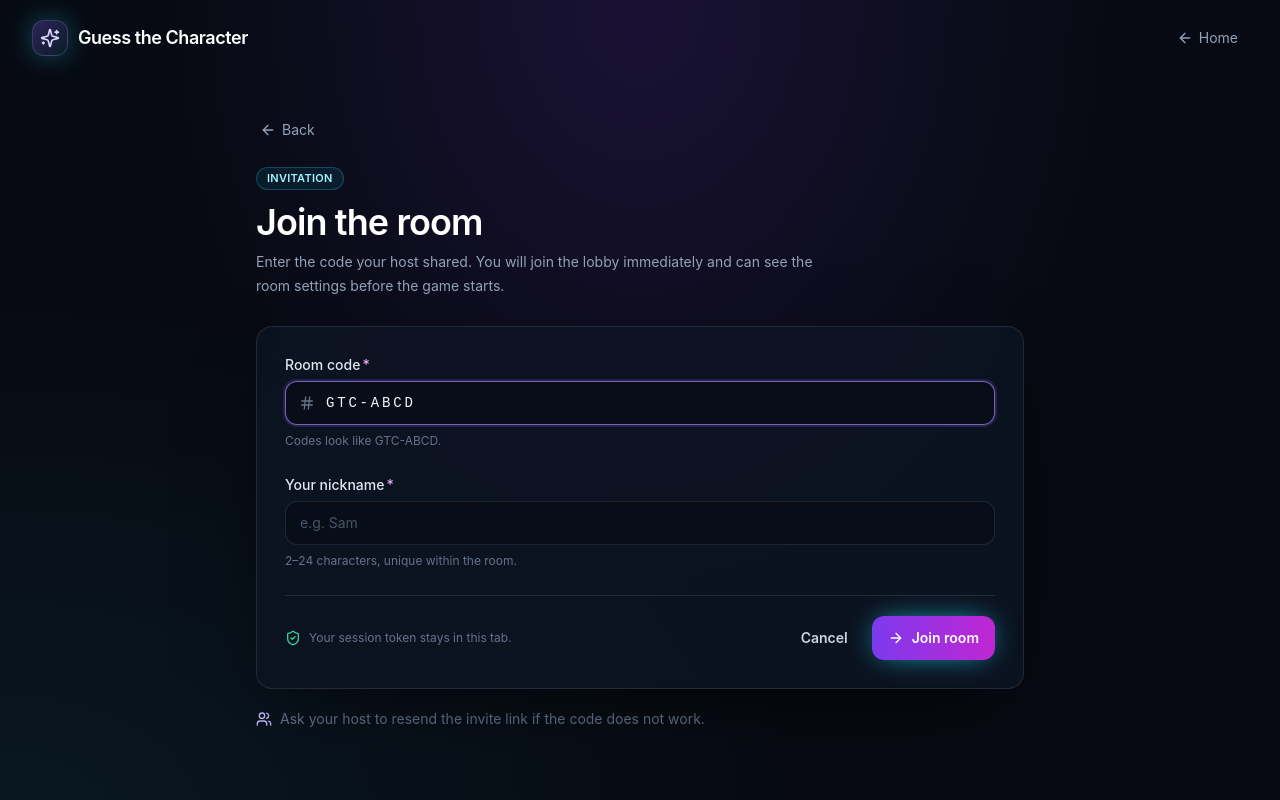
Test: JoinRoomPage › surfaces the server's refusal instead of a raw internal message
In the field labelled "Your nickname*": (640,522) [285,500,995,544], type "Sam"
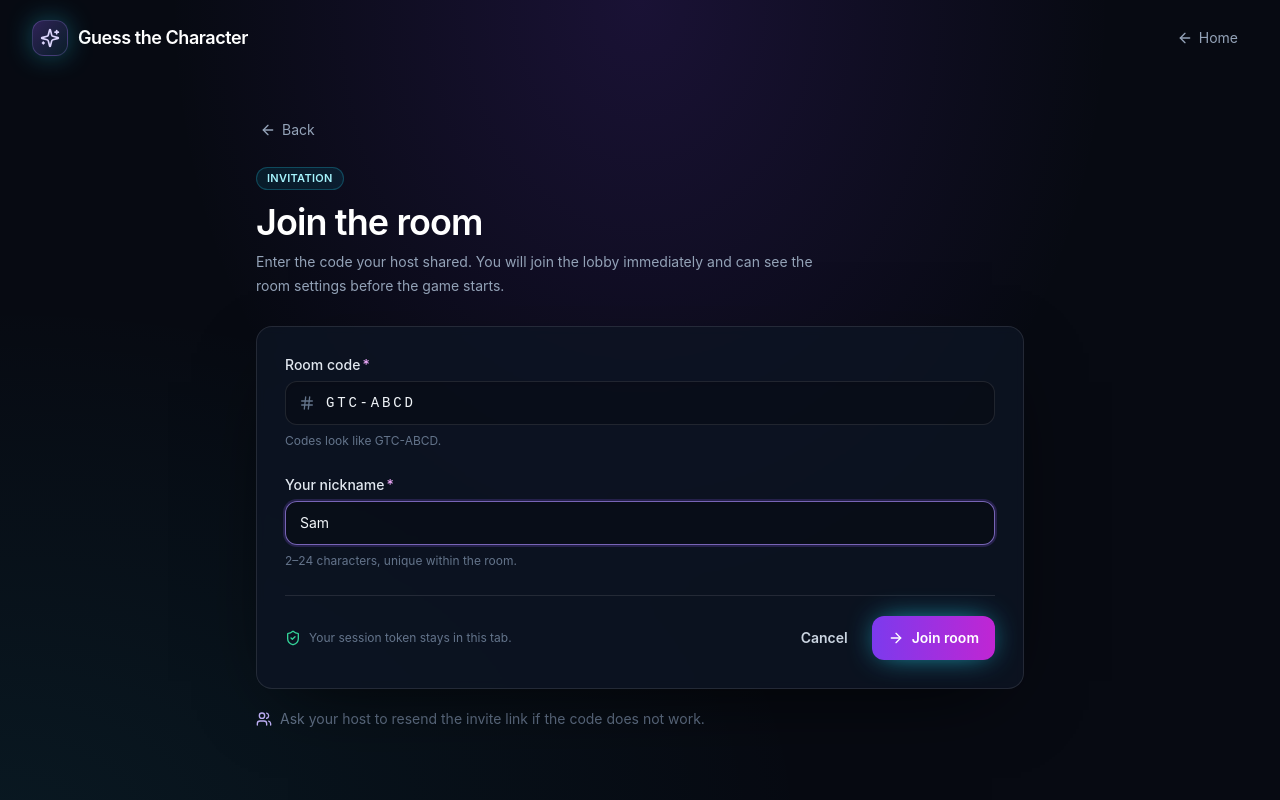
Click the button "Join room": (933,638) [872,616,995,660]
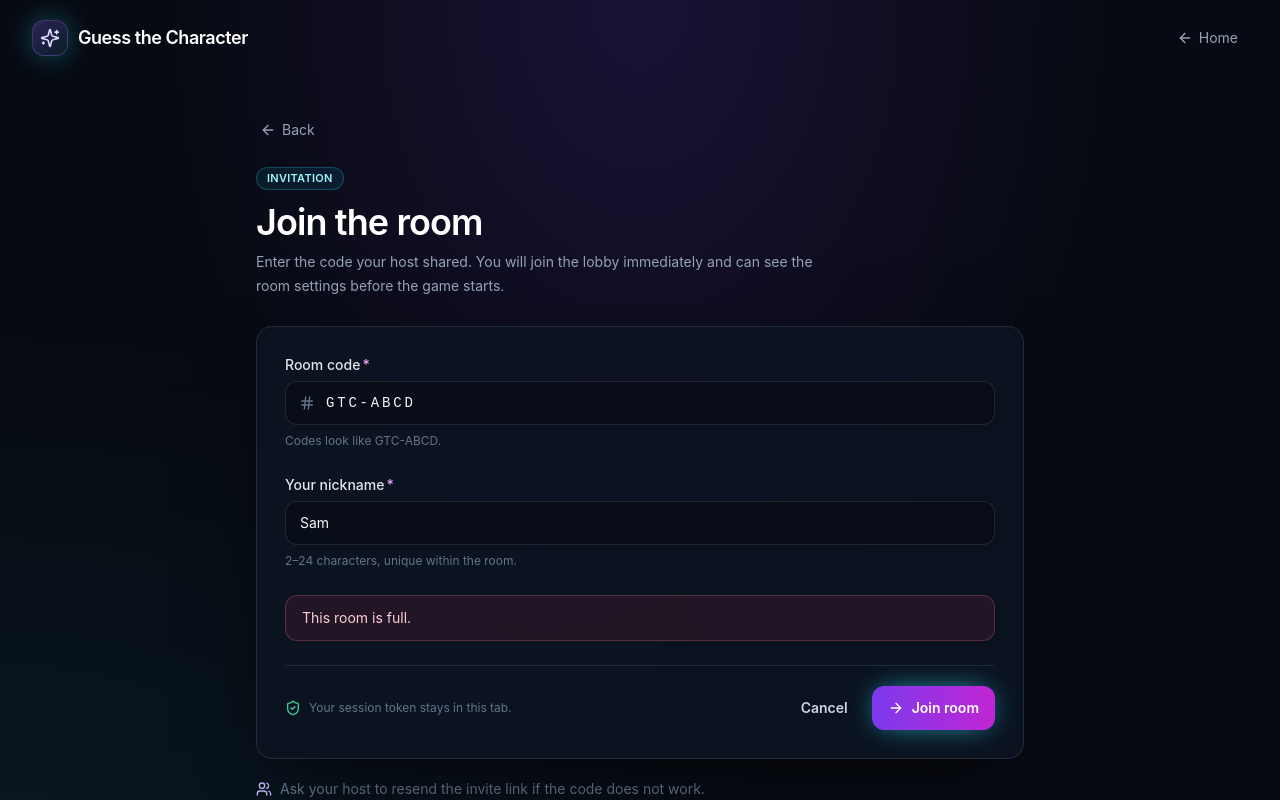
Expected: the message reads "This room is full.", [302,608,411,626]
